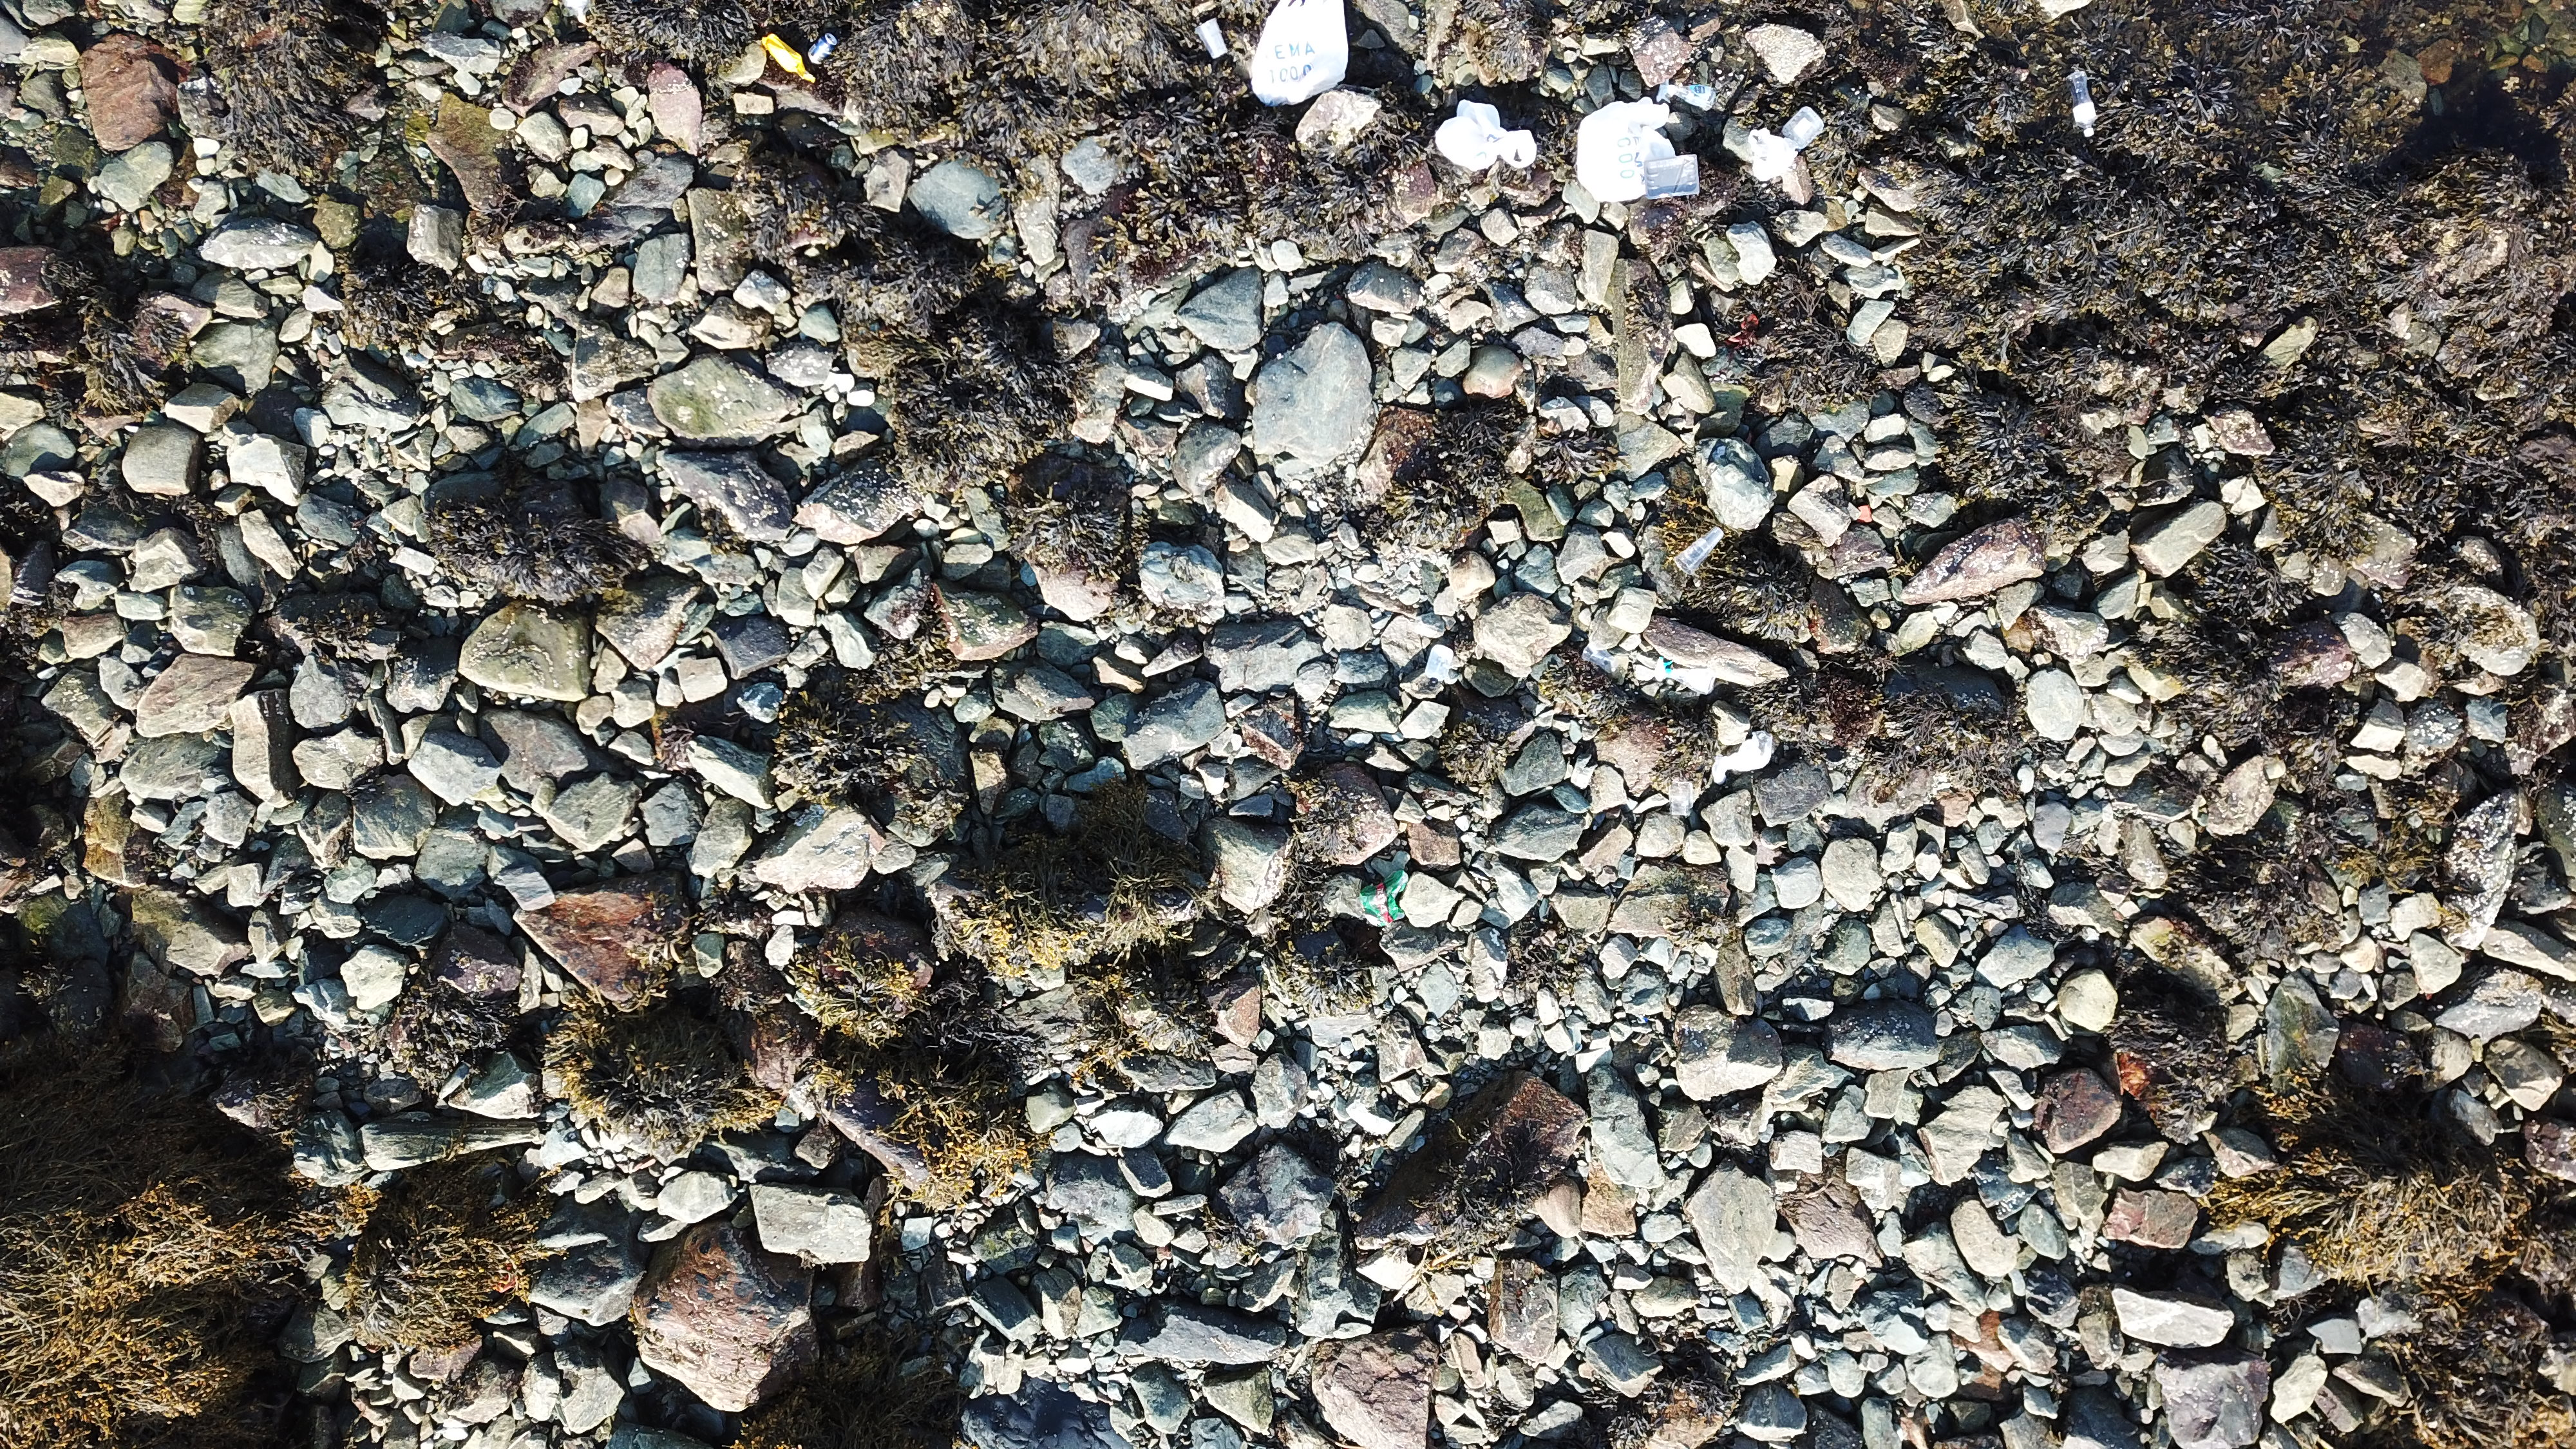Can: (807, 30, 837, 65)
Plastic: (1575, 97, 1674, 203), (1251, 0, 1348, 104), (1433, 99, 1537, 175), (1711, 731, 1773, 784), (1744, 126, 1799, 182), (763, 34, 817, 87), (1675, 525, 1727, 579), (1645, 154, 1702, 202), (1364, 870, 1410, 927), (1652, 656, 1716, 697), (1651, 76, 1716, 110), (1783, 104, 1828, 152), (1194, 16, 1231, 58), (1668, 780, 1695, 819)
PlasticBottle: (2066, 69, 2097, 140)
